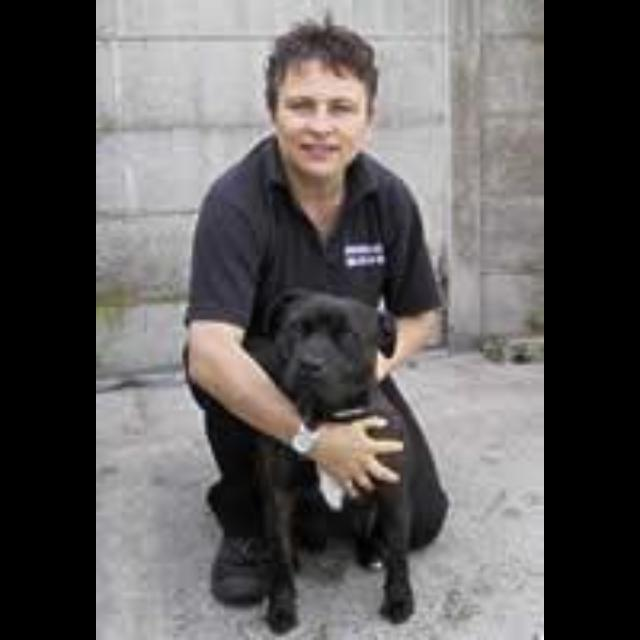face: (273, 44, 373, 177)
person: (184, 23, 451, 607)
staffford: (251, 287, 449, 632)
